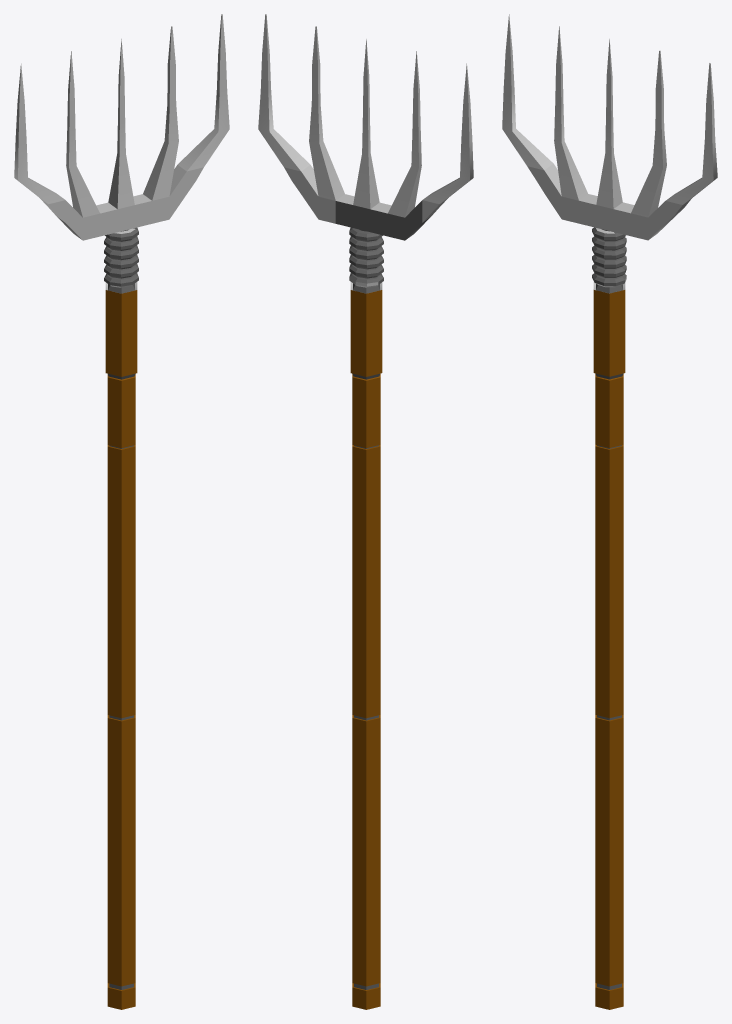
File: PitchFork.fbx
The picture shows the model from 3 angles, left to right: view 1: azimuth 30°, elevation 25°; view 2: azimuth 150°, elevation 25°; view 3: azimuth 330°, elevation 25°; orthographic projection.
Visible parts, largest first — view 1: PitchFork; view 2: PitchFork; view 3: PitchFork.
Boxes of the visible parts, x1=… form: PitchFork: x1=14, y1=14, x2=229, y2=1009; PitchFork: x1=258, y1=14, x2=473, y2=1009; PitchFork: x1=502, y1=14, x2=717, y2=1009.
Size of the model in its own units: 1.36 by 5.92 by 0.1821.
